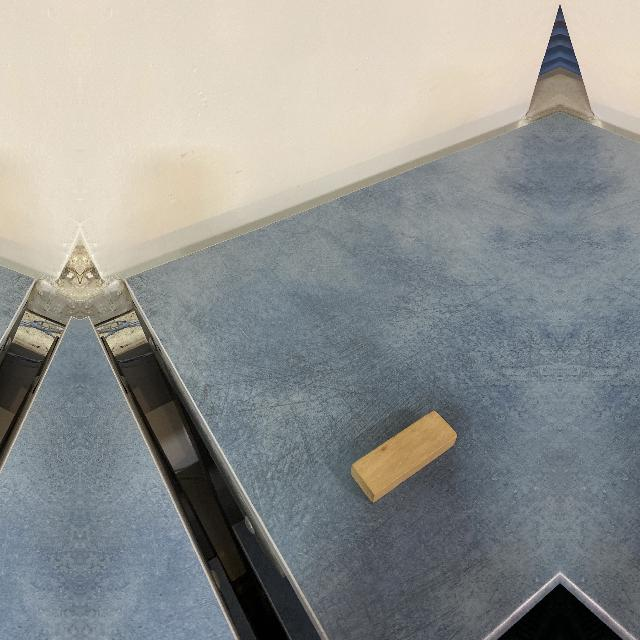jenga: (349, 411, 457, 503)
